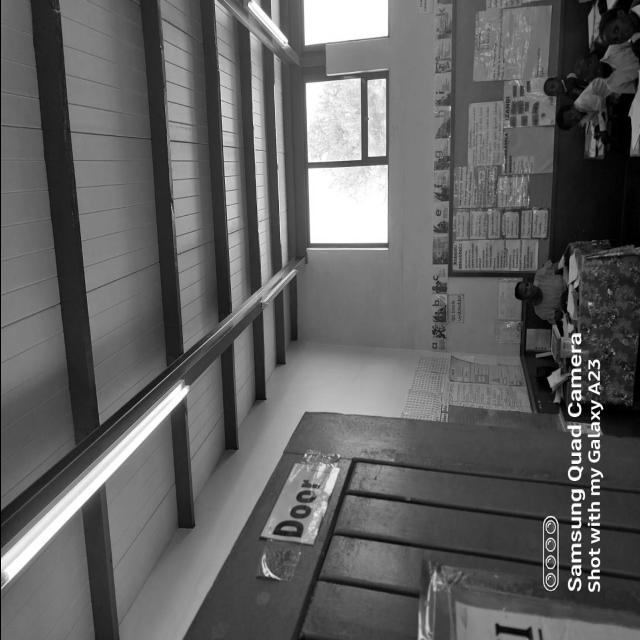light: (0, 376, 190, 590)
